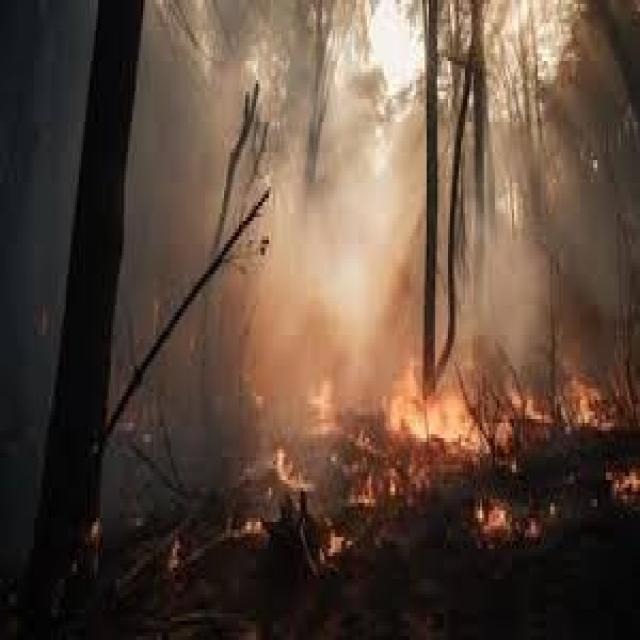Fire: (390, 378, 493, 468), (254, 424, 318, 498), (564, 376, 616, 450), (340, 452, 384, 528), (300, 361, 345, 429), (476, 481, 520, 542), (314, 521, 358, 582), (511, 373, 551, 440), (597, 458, 640, 510)
Smoke: (179, 32, 380, 324), (137, 53, 266, 505), (497, 114, 632, 342), (283, 195, 412, 402)
